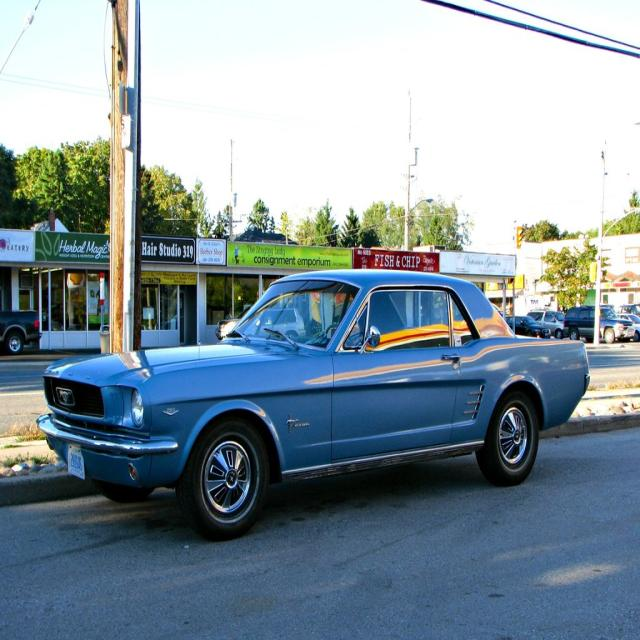car: (34, 267, 590, 540)
